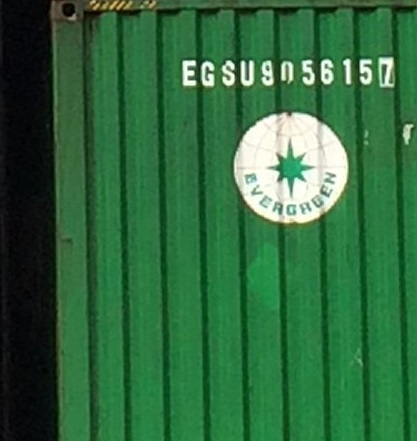container_no_door: (53, 4, 415, 441)
